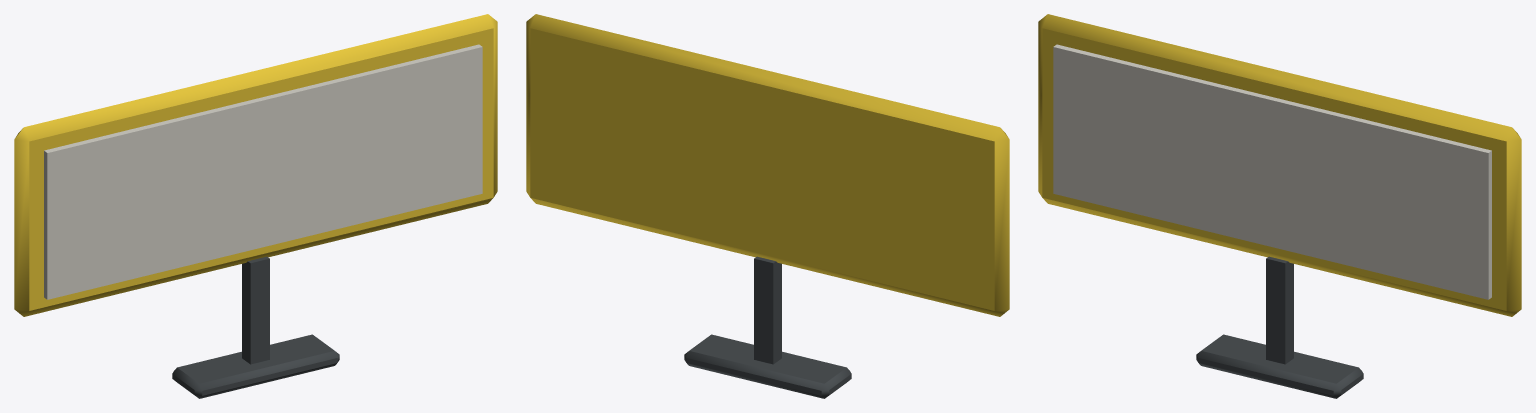
The model's file is 198_etiquette_prix.fbx.
3 renders of one model, left to right at view 1: azimuth 30°, elevation 25°; view 2: azimuth 150°, elevation 25°; view 3: azimuth 330°, elevation 25°, orthographic.
Visible parts, largest first — view 1: Etiquette; view 2: Etiquette; view 3: Etiquette.
Part boxes in pixels (bbox=[...]): Etiquette: bbox=[14, 14, 497, 398]; Etiquette: bbox=[526, 14, 1009, 398]; Etiquette: bbox=[1038, 14, 1521, 398].
Size of the model in its own units: 0.56 by 0.336 by 0.056.
1 material, 1 textured.
